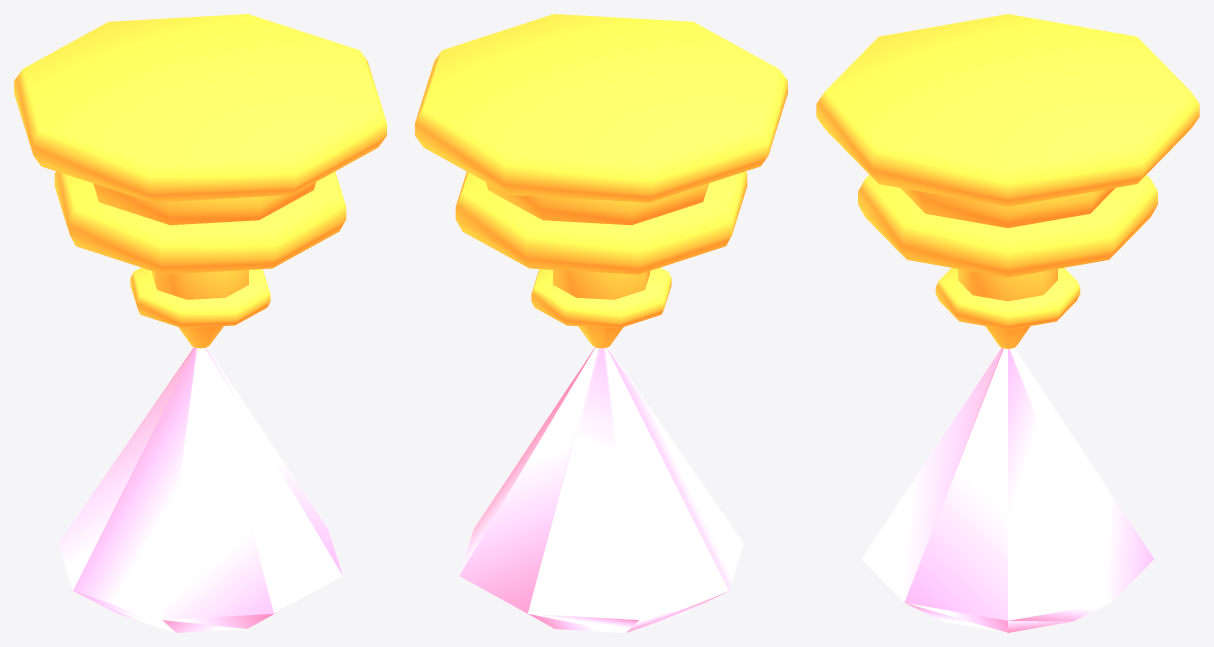
Rendered from gold_pommel_051.glb.
The picture shows the model from 3 angles, left to right: view 1: azimuth 30°, elevation 25°; view 2: azimuth 150°, elevation 25°; view 3: azimuth 270°, elevation 25°; orthographic projection.
Parts seen in each view (by area): view 1: gold_pommel_051; view 2: gold_pommel_051; view 3: gold_pommel_051.
Part boxes in pixels (x1,y1,x2,y2): gold_pommel_051: (14, 14, 386, 632); gold_pommel_051: (415, 14, 787, 632); gold_pommel_051: (816, 14, 1199, 632).
Bounding box in the file's own units: 1.76 × 2.54 × 1.76.
1 material, 1 textured.
